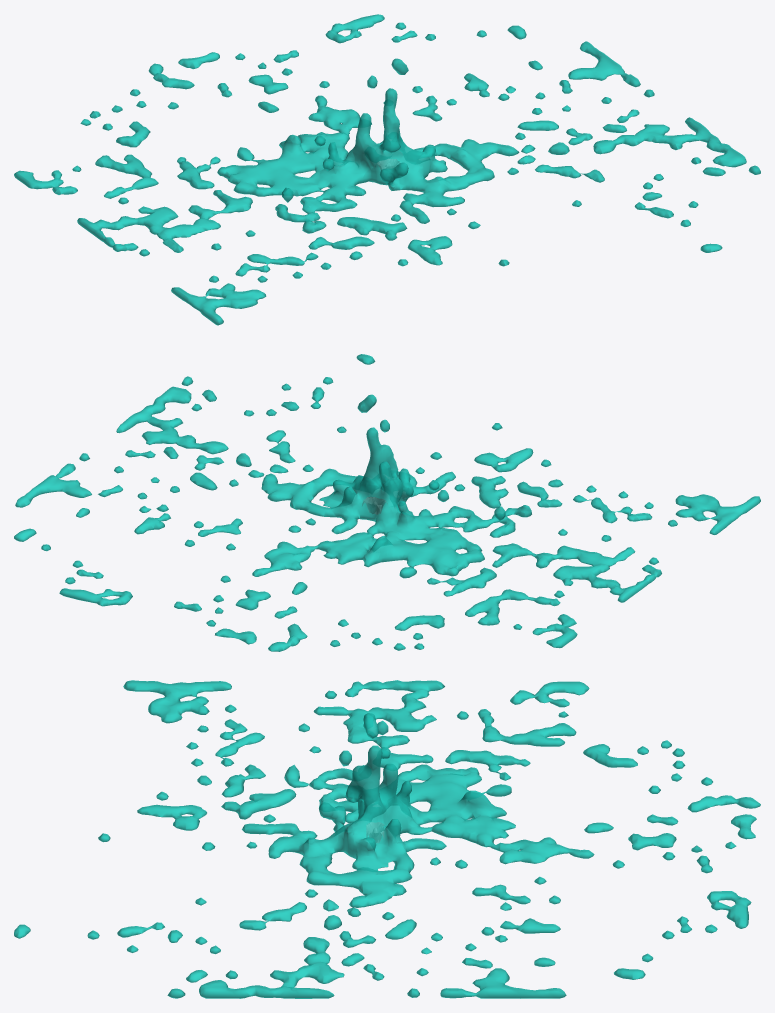
3 renders of one model, top to bottom at view 1: azimuth 30°, elevation 25°; view 2: azimuth 150°, elevation 25°; view 3: azimuth 270°, elevation 25°, orthographic. The views are drawn at different scales.
Parts seen in each view (by area): view 1: Liquid_Domain; view 2: Liquid_Domain; view 3: Liquid_Domain.
Boxes of the visible parts, x1,y1,x2,y2 form: Liquid_Domain: (14,14,760,325); Liquid_Domain: (14,354,760,651); Liquid_Domain: (14,680,760,998).
Size of the model in its own units: 12.43 by 2.51 by 12.57.
